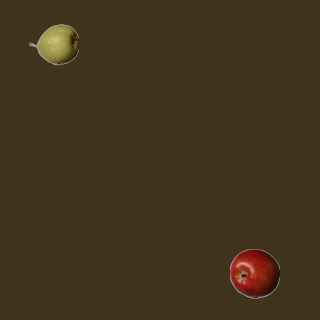Apple Braeburn: (229, 248, 279, 298)
Pear: (28, 19, 78, 69)
